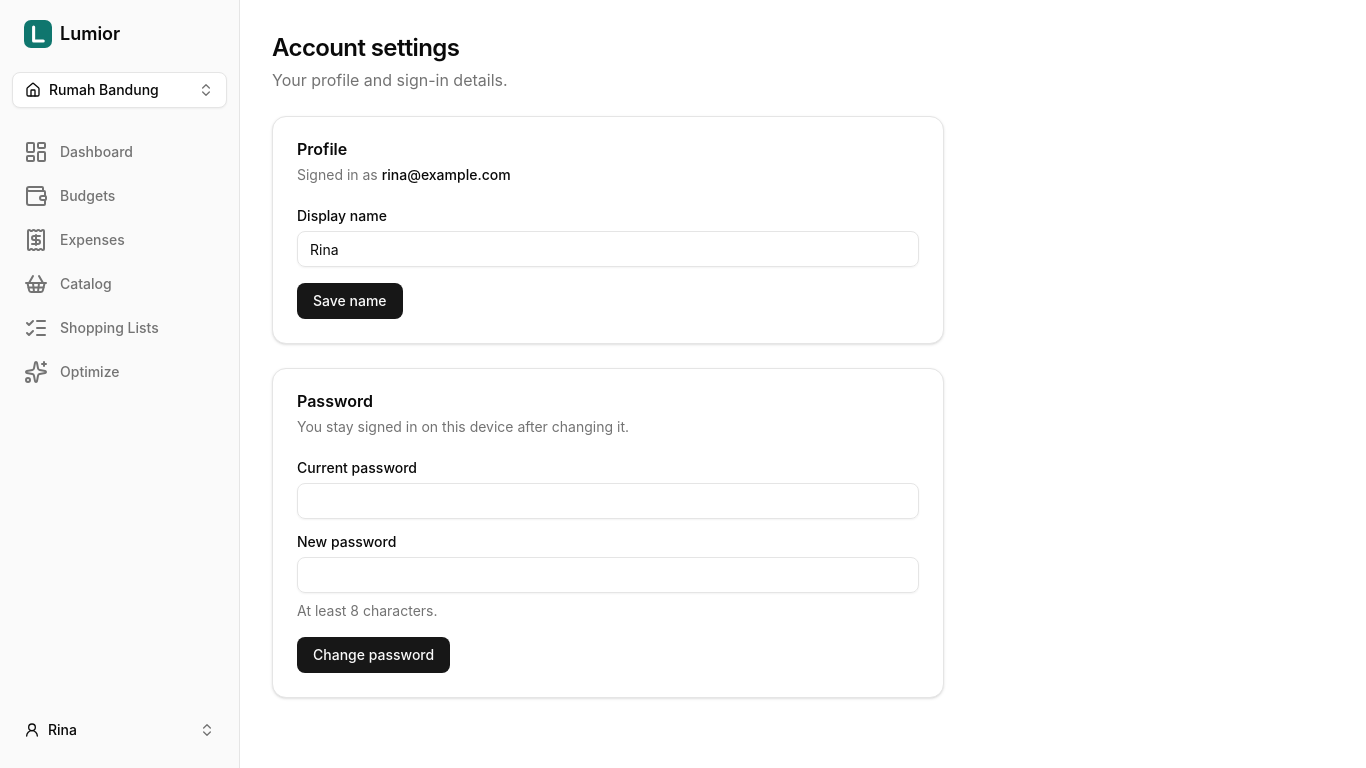
Test: account settings › renaming updates the account menu without a reload
Replace the text in the field labelled "Display name" with "Rina S." at (608, 249), box [297,231,919,267]
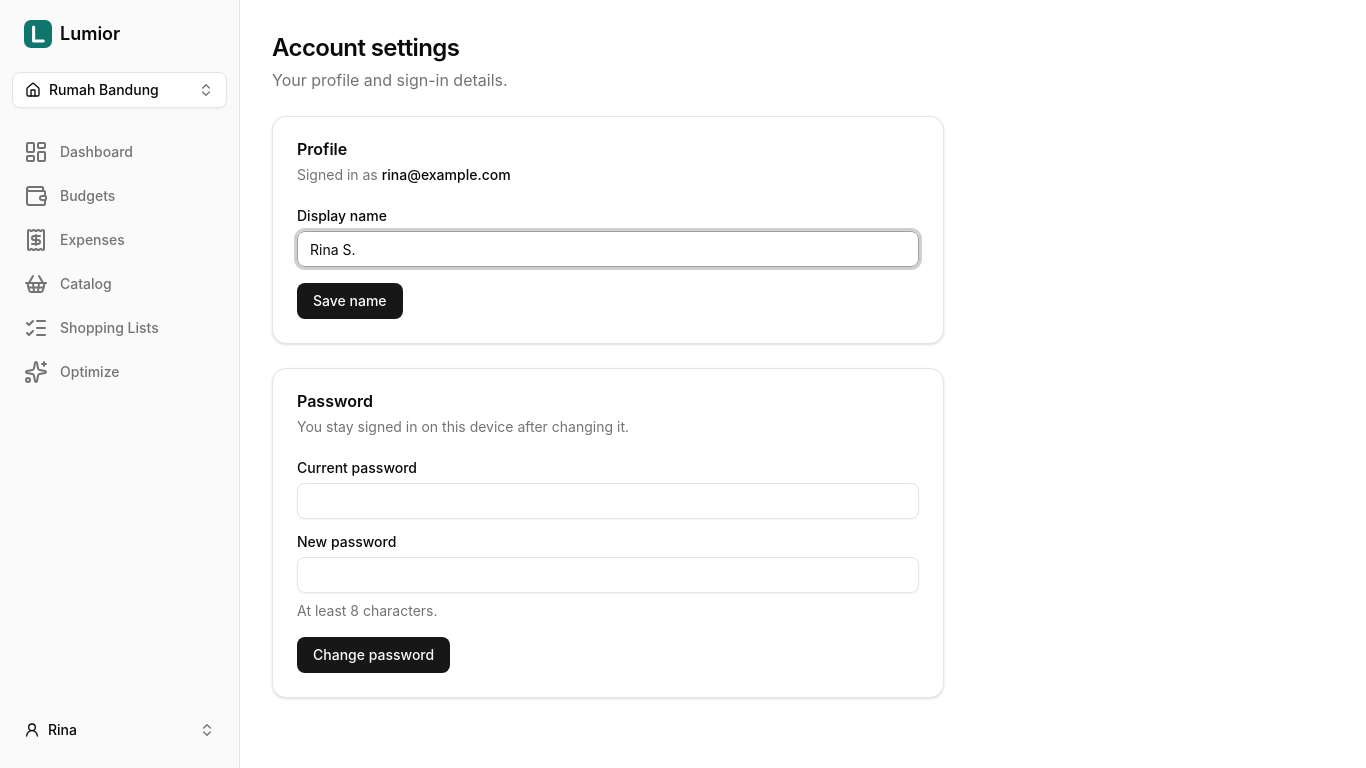
Click the button "Save name" at (350, 301), box [297,283,402,319]
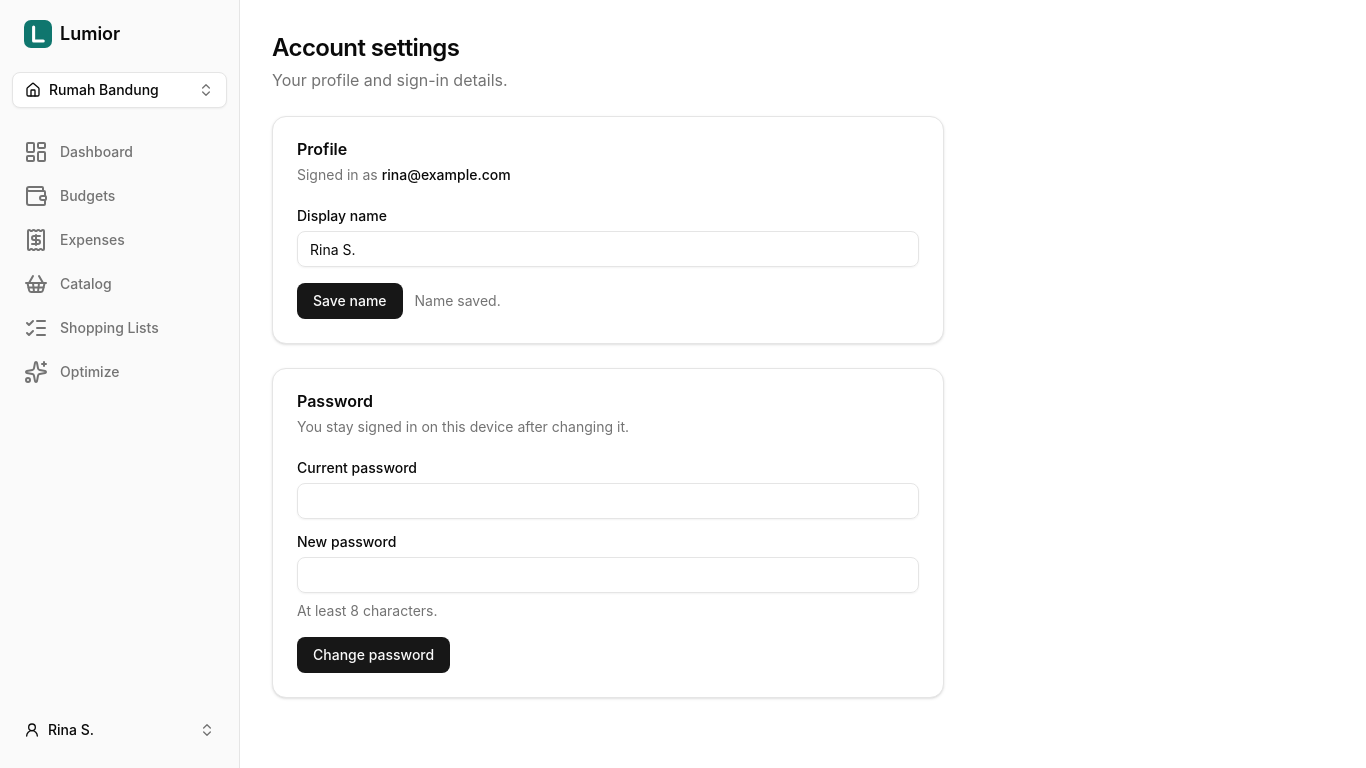
Expected: the text "Name saved." is shown, [414,291,501,311]
Expected: the button with aria-label "Account: Rina S." is shown, [12,712,227,748]
Expected: the text "Rina S." is shown, [48,720,94,740]
